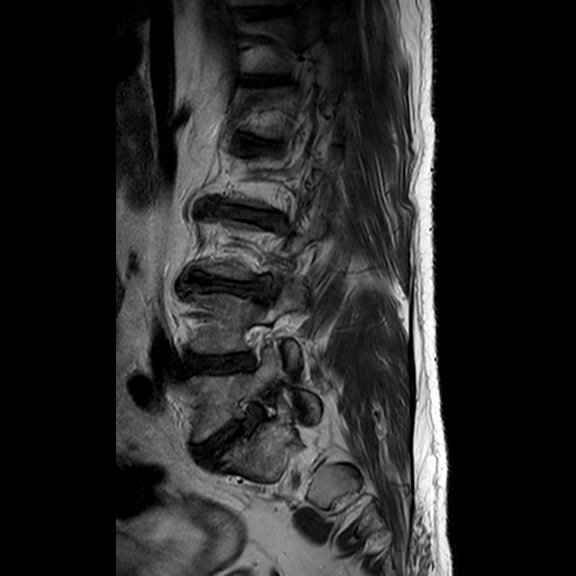RFS0: (227, 315, 277, 381)
